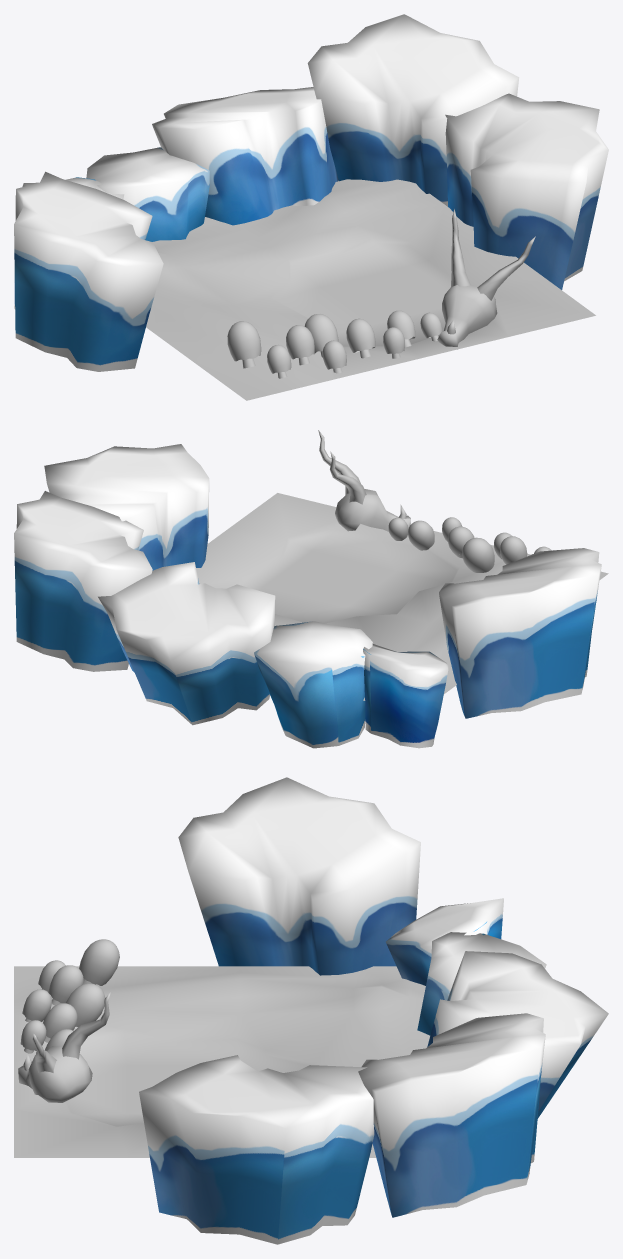
Rendered from Map_1_C_4.FBX.
The picture shows the model from 3 angles, top to bottom: view 1: azimuth 30°, elevation 25°; view 2: azimuth 150°, elevation 25°; view 3: azimuth 270°, elevation 25°; orthographic projection. The views are drawn at different scales.
Parts seen in each view (by area): view 1: tereno2, Iceberg018, Iceberg011, Iceberg021, Iceberg020, Iceberg009, Animal bones1, Icethree108, Icethree104, Icethree112, Icethree111, Icethree113 (+3 smaller); view 2: tereno2, Iceberg018, Iceberg020, Iceberg011, Iceberg021, Iceberg009, Iceberg014, Animal bones1, Icethree111, Icethree116, Icethree104, Icethree112; view 3: tereno2, Iceberg018, Iceberg021, Iceberg011, Iceberg020, Iceberg014, Animal bones1, Iceberg009, Icethree108, Icethree111, Icethree104, Icethree112 (+1 smaller).
Part boxes in pixels (<box>): tereno2: <box>146,179,595,400</box>; Iceberg018: <box>14,171,163,371</box>; Iceberg011: <box>307,14,519,206</box>; Iceberg021: <box>445,93,608,289</box>; Iceberg020: <box>152,87,338,225</box>; Iceberg009: <box>86,147,209,241</box>; Animal bones1: <box>437,209,535,346</box>; Icethree108: <box>227,321,261,368</box>; Icethree104: <box>286,325,314,365</box>; Icethree112: <box>346,318,375,358</box>; Icethree111: <box>304,314,338,357</box>; Icethree113: <box>322,340,346,373</box>; tereno2: <box>196,493,608,700</box>; Iceberg018: <box>439,548,601,718</box>; Iceberg020: <box>98,562,275,725</box>; Iceberg011: <box>14,491,152,671</box>; Iceberg021: <box>44,444,209,570</box>; Iceberg009: <box>254,621,372,748</box>; Iceberg014: <box>363,644,448,748</box>; Animal bones1: <box>318,430,410,531</box>; Icethree111: <box>462,537,494,572</box>; Icethree116: <box>408,520,434,550</box>; Icethree104: <box>500,536,527,564</box>; Icethree112: <box>448,526,474,558</box>; tereno2: <box>14,966,429,1157</box>; Iceberg018: <box>178,777,420,975</box>; Iceberg021: <box>139,1055,374,1244</box>; Iceberg011: <box>358,1013,545,1217</box>; Iceberg020: <box>427,951,608,1118</box>; Iceberg014: <box>386,898,503,985</box>; Animal bones1: <box>18,992,110,1102</box>; Iceberg009: <box>417,932,546,1035</box>; Icethree108: <box>79,939,119,985</box>; Icethree111: <box>66,983,105,1027</box>; Icethree104: <box>48,965,83,1005</box>; Icethree112: <box>43,1003,77,1042</box>.
Size of the model in its own units: 836 by 224 by 657.
